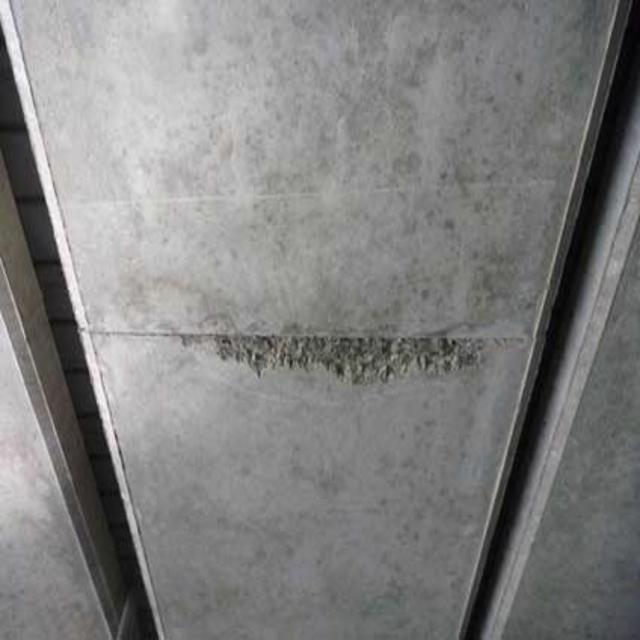spalling: (203, 313, 520, 414)
